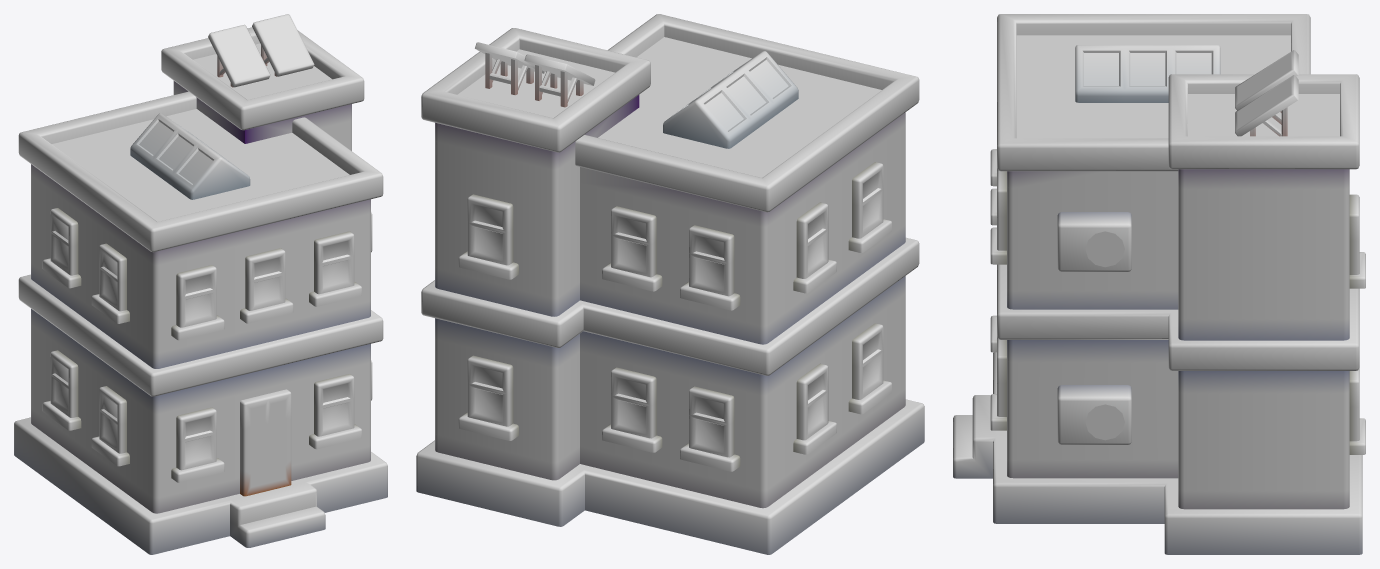
Rendered from NF_Bld_House 40.fbx.
3 renders of one model, left to right at view 1: azimuth 30°, elevation 25°; view 2: azimuth 150°, elevation 25°; view 3: azimuth 270°, elevation 25°, orthographic. The views are drawn at different scales.
Visible parts, largest first — view 1: House_40; view 2: House_40; view 3: House_40.
Boxes of the visible parts, x1,y1,x2,y2 form: House_40: [14, 14, 387, 554]; House_40: [416, 14, 924, 554]; House_40: [953, 14, 1365, 554].
Size of the model in its own units: 8.11 by 10.04 by 8.43.
